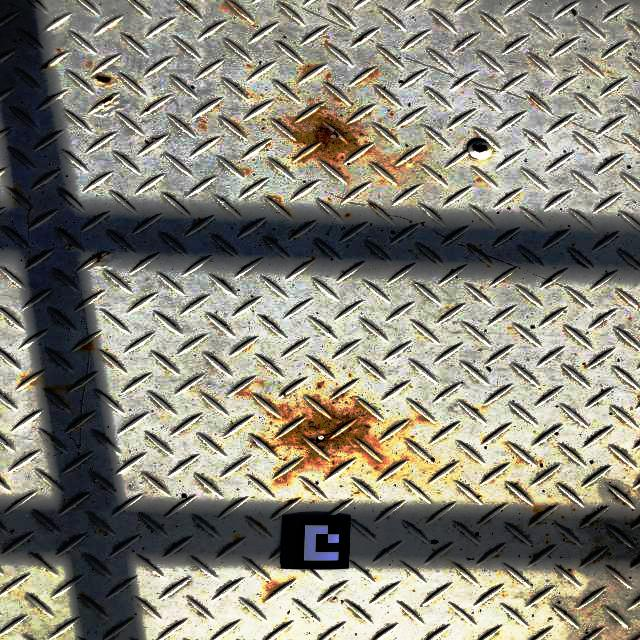Corrosion: (275, 403, 376, 483), (294, 106, 370, 178), (470, 140, 488, 151), (99, 94, 115, 105), (96, 73, 111, 84)
